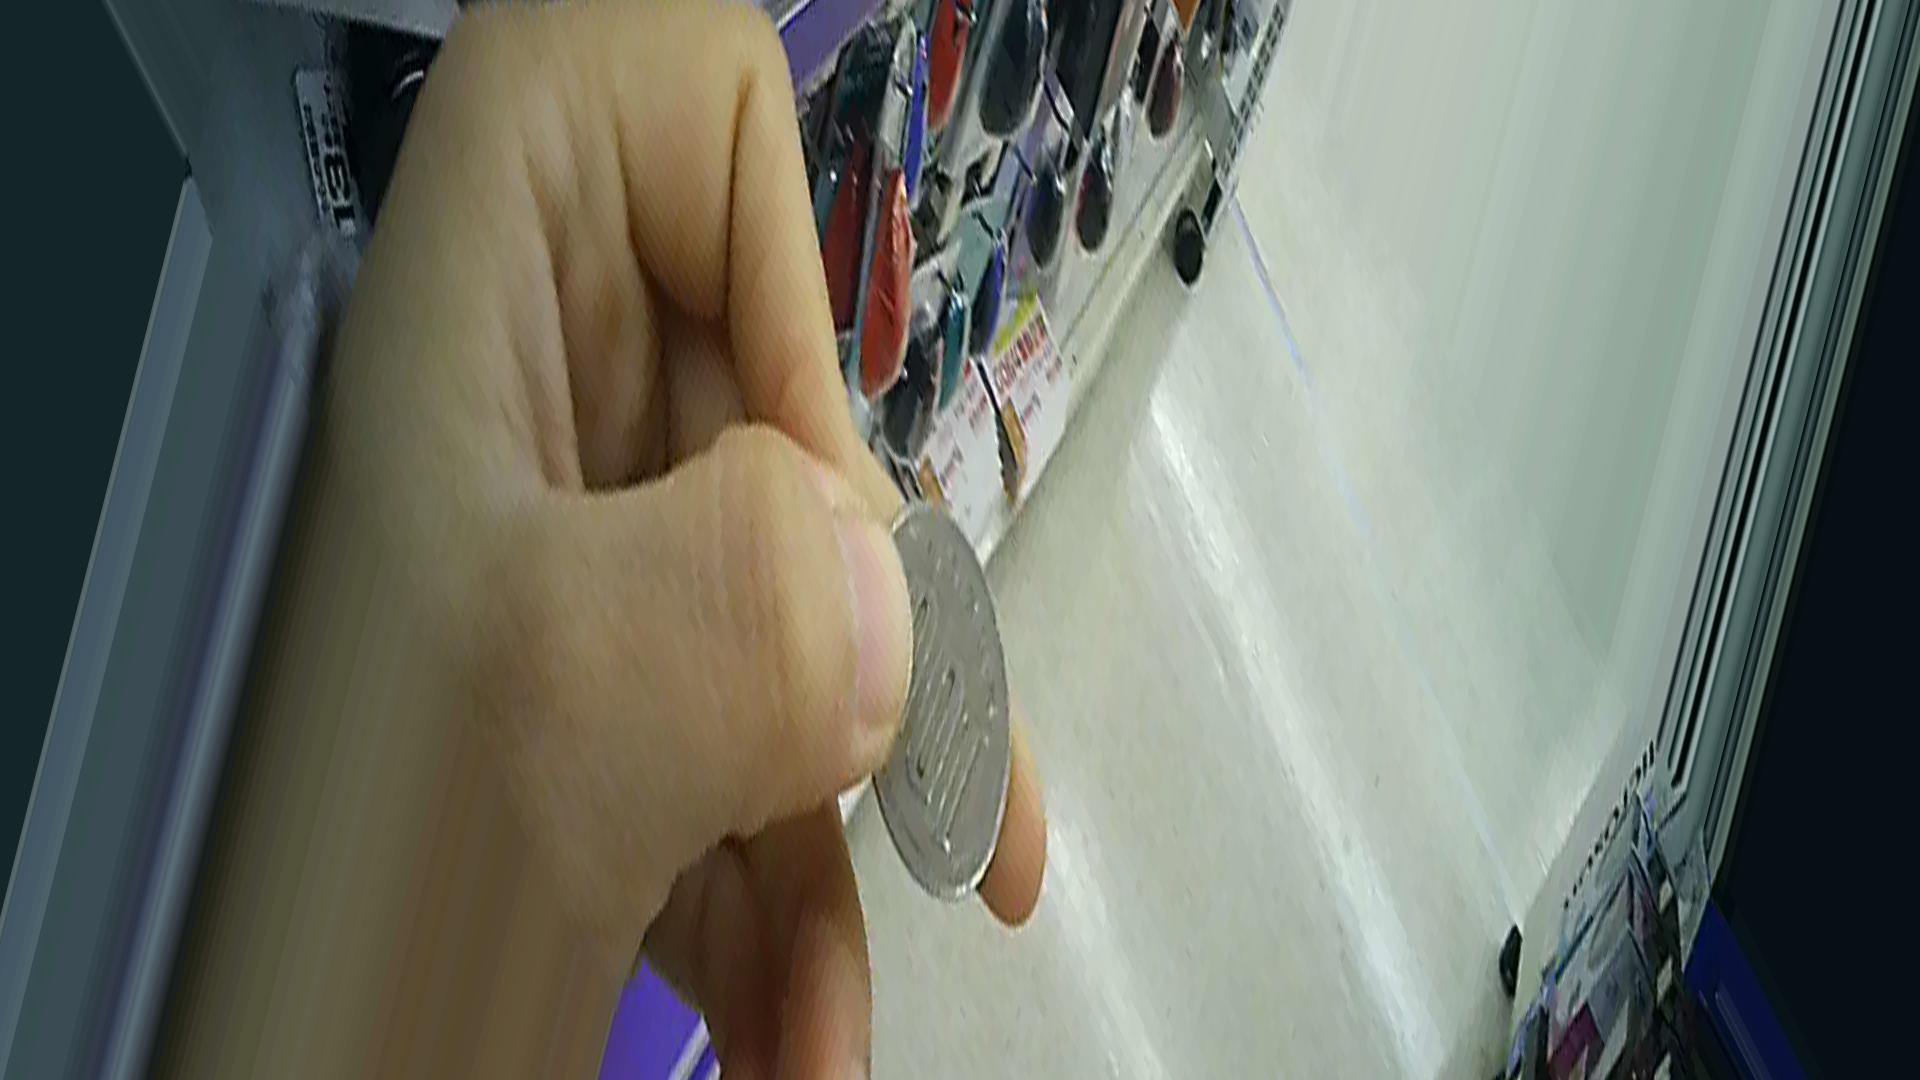100 Yen: (811, 505, 1031, 913)
